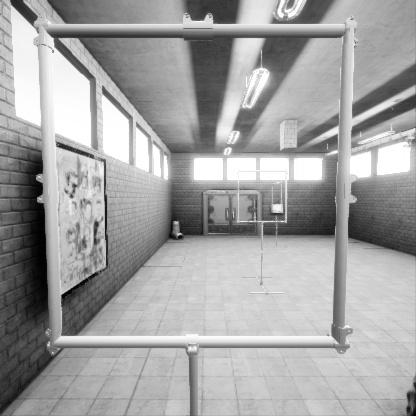gate: (62, 98, 353, 381), (238, 196, 290, 247), (272, 205, 282, 235)
